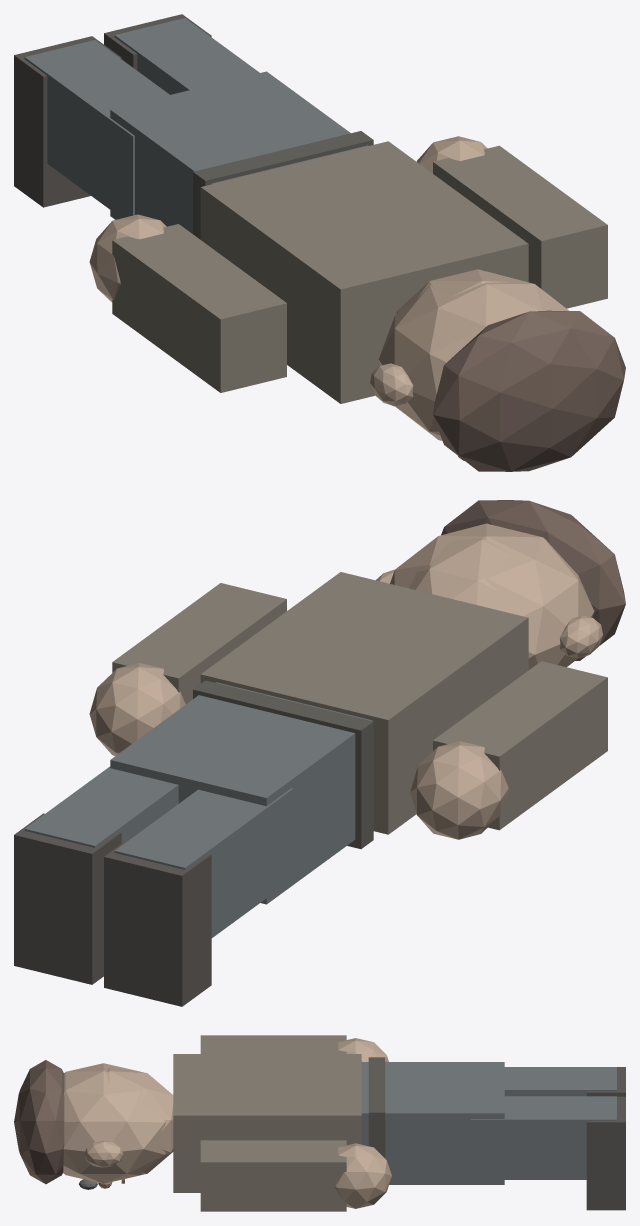
File: hero_male_broad.glb
The picture shows the model from 3 angles, top to bottom: view 1: azimuth 30°, elevation 25°; view 2: azimuth 150°, elevation 25°; view 3: azimuth 270°, elevation 25°; orthographic projection. The views are drawn at different scales.
Parts seen in each view (by area): view 1: part_00, part_19, part_06, part_01, part_12, part_04, part_02, part_10, part_05, part_18, part_07, part_09 (+3 smaller); view 2: part_00, part_01, part_06, part_05, part_04, part_11, part_02, part_12, part_19, part_07, part_10, part_13 (+3 smaller); view 3: part_00, part_01, part_12, part_10, part_02, part_19, part_11, part_04, part_13, part_06, part_03, part_18 (+3 smaller).
Boxes of the visible parts, left/top/right/bottom form: part_00: left=200, top=141, right=528, bottom=403; part_19: left=433, top=310, right=625, bottom=471; part_06: left=112, top=224, right=286, bottom=392; part_01: left=110, top=71, right=367, bottom=233; part_12: left=433, top=145, right=607, bottom=308; part_04: left=24, top=40, right=169, bottom=218; part_02: left=378, top=271, right=569, bottom=440; part_10: left=114, top=18, right=259, bottom=94; part_05: left=14, top=36, right=121, bottom=207; part_18: left=193, top=131, right=373, bottom=239; part_07: left=89, top=214, right=166, bottom=302; part_09: left=370, top=363, right=413, bottom=406; part_00: left=200, top=572, right=528, bottom=834; part_01: left=110, top=682, right=372, bottom=904; part_06: left=433, top=661, right=607, bottom=830; part_05: left=104, top=835, right=211, bottom=1006; part_04: left=114, top=788, right=293, bottom=937; part_11: left=14, top=813, right=121, bottom=984; part_02: left=390, top=523, right=594, bottom=669; part_12: left=112, top=583, right=286, bottom=704; part_19: left=441, top=500, right=625, bottom=660; part_07: left=410, top=741, right=508, bottom=839; part_10: left=24, top=766, right=178, bottom=847; part_13: left=89, top=663, right=185, bottom=755; part_00: left=173, top=1054, right=361, bottom=1192; part_01: left=361, top=1062, right=504, bottom=1184; part_12: left=200, top=1140, right=346, bottom=1211; part_10: left=471, top=1096, right=616, bottom=1179; part_02: left=63, top=1063, right=165, bottom=1183; part_19: left=14, top=1060, right=64, bottom=1184; part_11: left=586, top=1096, right=625, bottom=1210; part_04: left=504, top=1067, right=616, bottom=1096; part_13: left=335, top=1143, right=391, bottom=1208; part_06: left=200, top=1035, right=346, bottom=1053; part_03: left=106, top=1067, right=173, bottom=1174; part_18: left=368, top=1057, right=385, bottom=1158.
Bounding box in the file's own units: 1.03 × 0.435 × 2.02.
